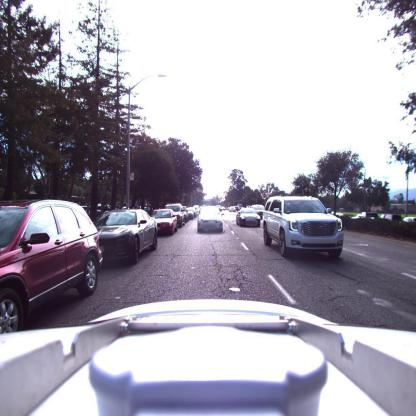car: (0, 199, 103, 333), (262, 194, 344, 258), (95, 209, 160, 268), (151, 210, 179, 235), (197, 207, 223, 233), (237, 208, 262, 228), (164, 205, 184, 227), (186, 207, 195, 221), (229, 205, 236, 214)
